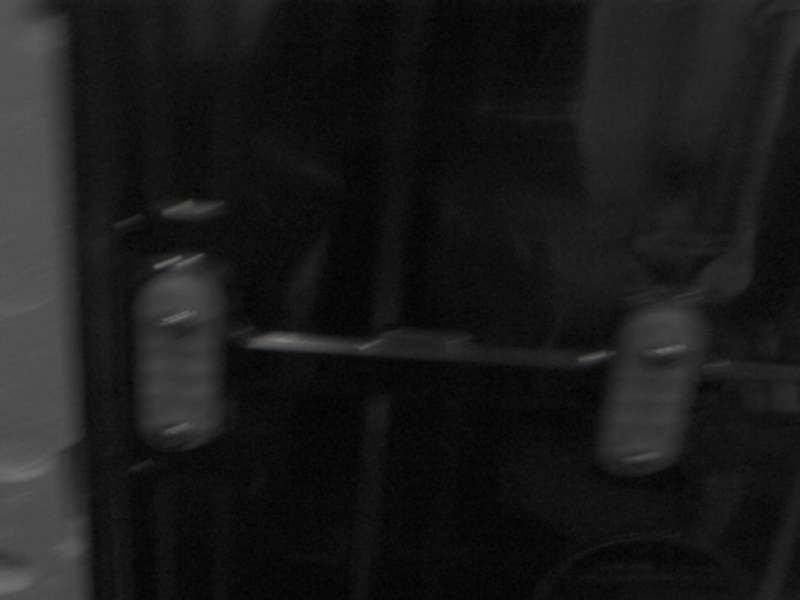screw: (157, 421, 197, 451), (158, 310, 198, 337), (639, 344, 689, 365), (622, 450, 662, 466)
